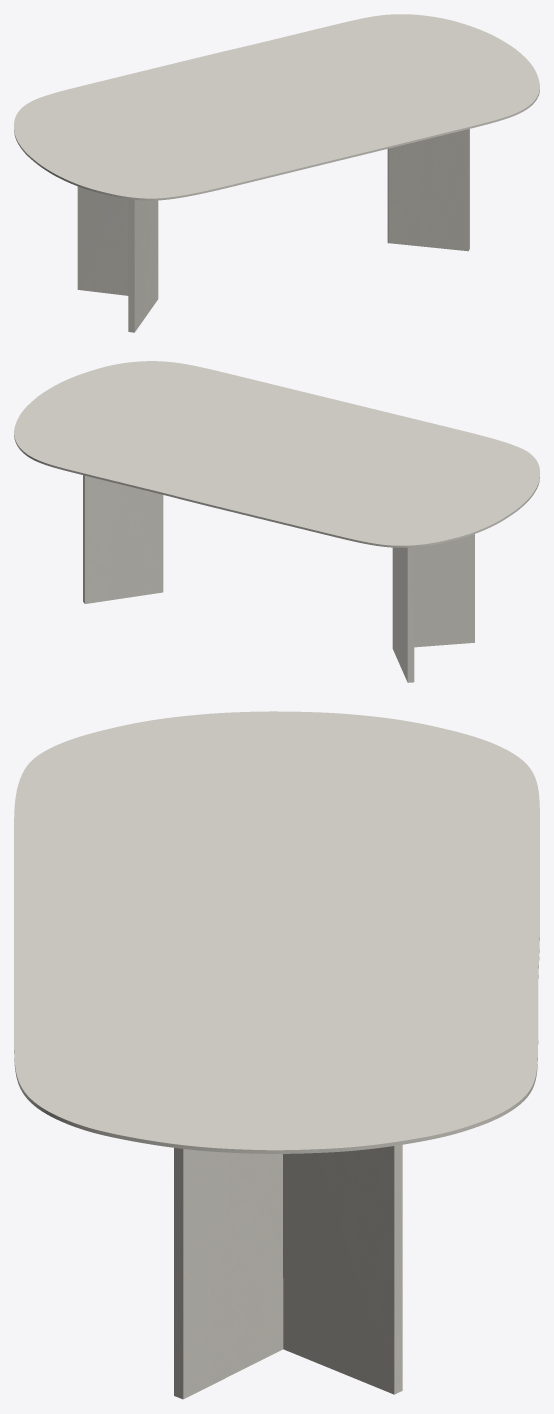
The model's file is pale_oval_facet_valleyv.glb.
3 views of the same model, one above another, from view 1: azimuth 30°, elevation 25°; view 2: azimuth 150°, elevation 25°; view 3: azimuth 270°, elevation 25° (orthographic). The views are drawn at different scales.
Parts seen in each view (by area): view 1: facet_oval, valleyv; view 2: facet_oval, valleyv; view 3: facet_oval, valleyv.
Part boxes in pixels (<box>): facet_oval: <box>14,14,539,200</box>; valleyv: <box>77,129,469,332</box>; facet_oval: <box>14,361,539,547</box>; valleyv: <box>83,475,474,682</box>; facet_oval: <box>14,711,539,1153</box>; valleyv: <box>174,1144,402,1399</box>.
Bounding box in the file's own units: 7.5 × 2.5 × 3.8.
Materials: 1 (1 with a texture image).
